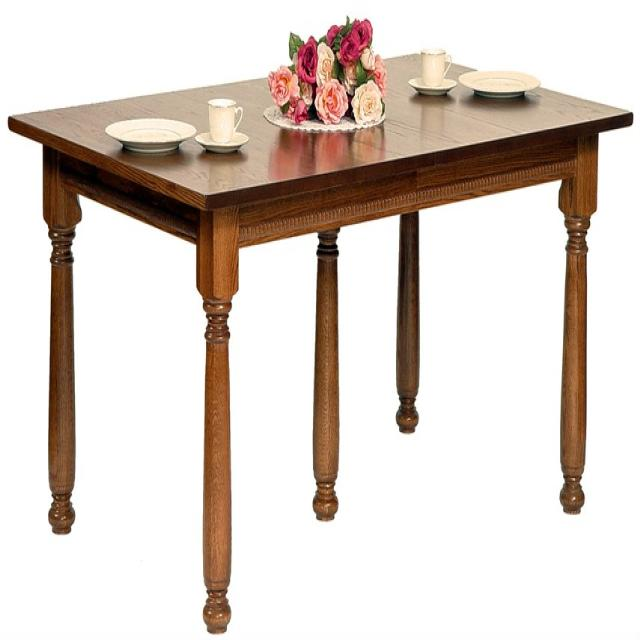table: (5, 47, 636, 638)
